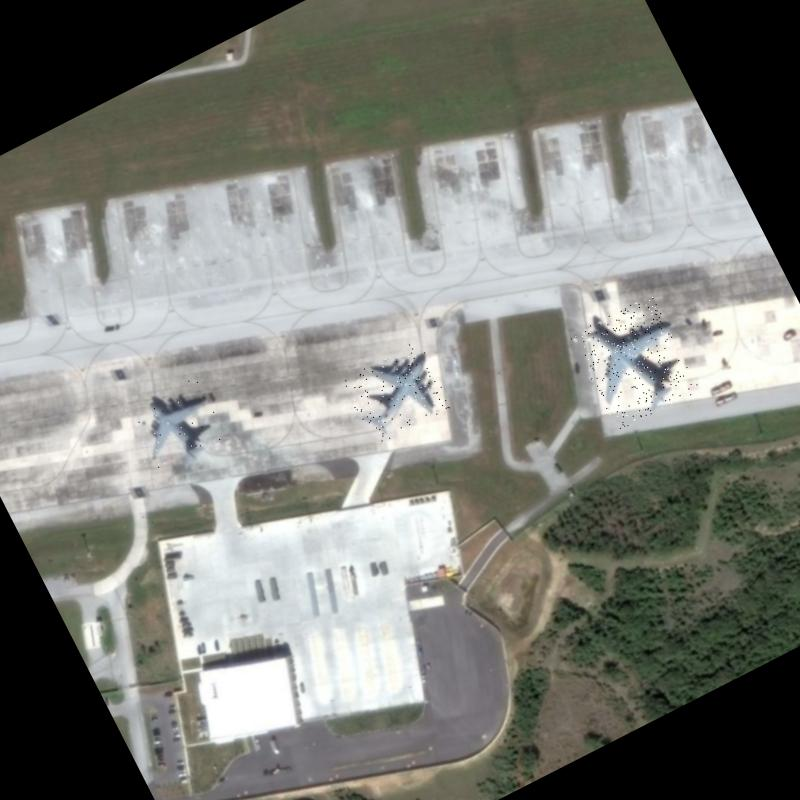A3: (340, 339, 452, 446), (122, 374, 228, 477)
A4: (569, 294, 700, 431)
